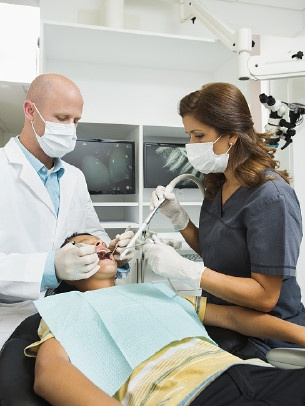Mask: (34, 104, 89, 159)
